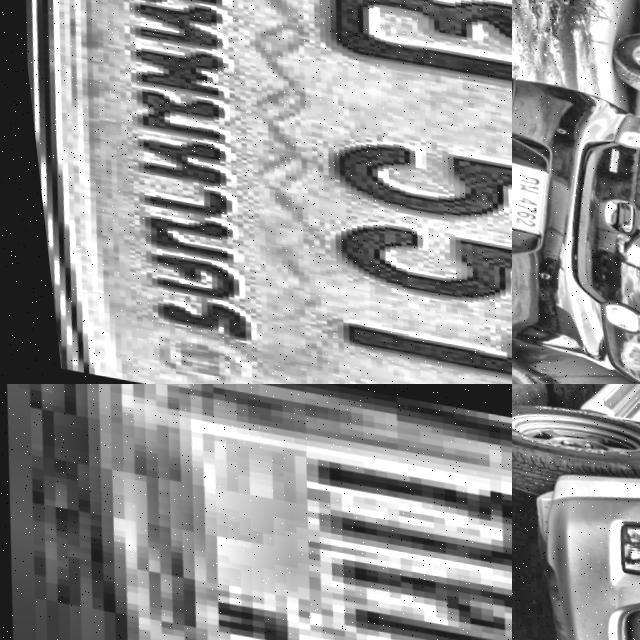license-plate: (0, 0, 512, 384), (0, 384, 512, 640), (512, 151, 551, 231)
